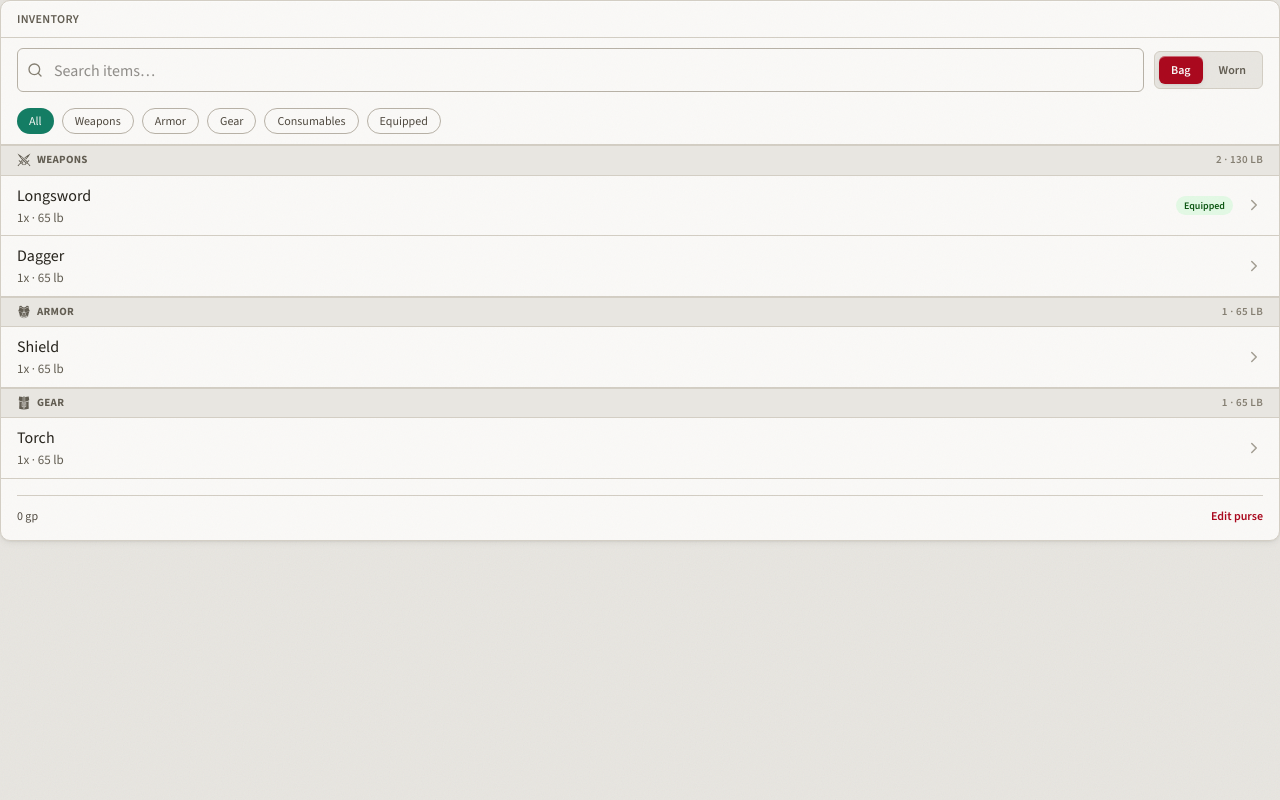
Test case: InventoryList search and filter › filters to equipped items via the Equipped chip
This screenshot has width=1280, height=800.
// An equipped row's toggle is also named "Equipped", so scope to the filter group.
Click the button "Equipped". click: [404, 121]
box: left=367, top=108, right=441, bottom=134
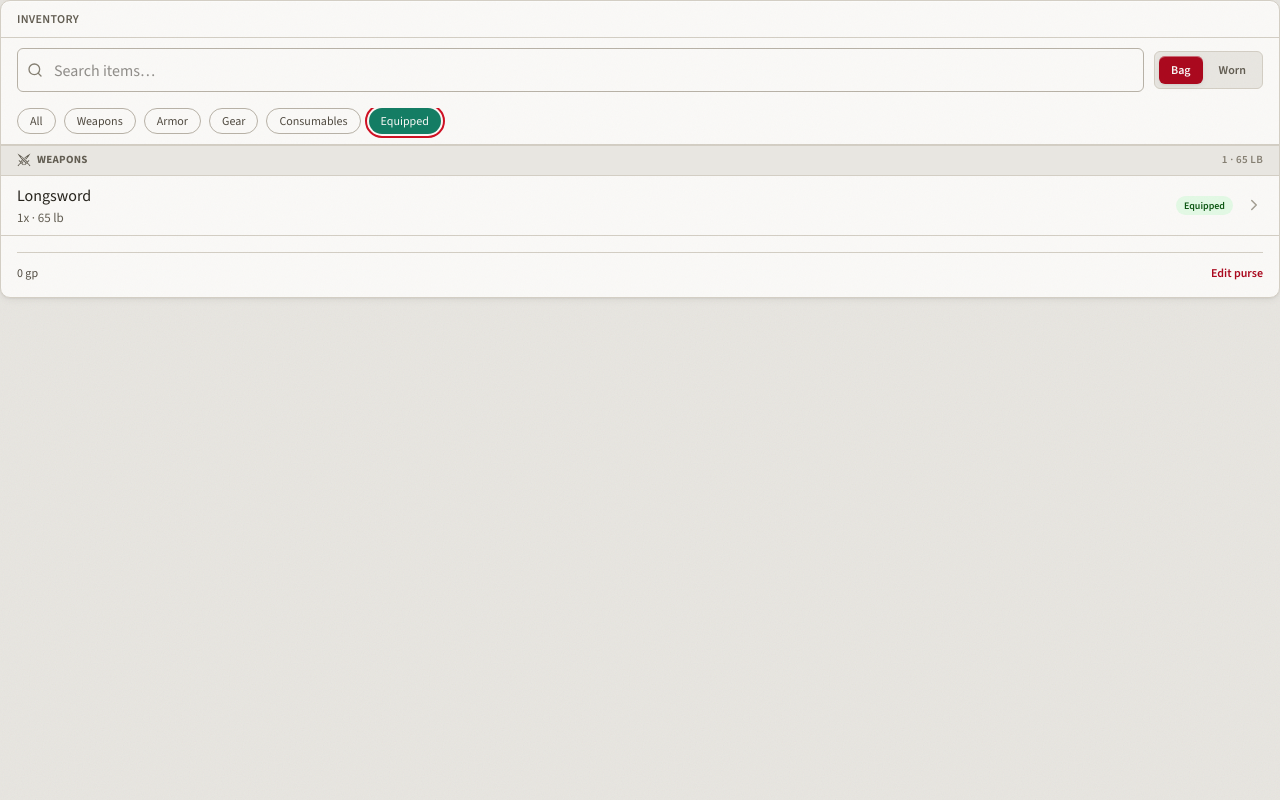
Expected: the text "Longsword" is shown, left=17, top=184, right=91, bottom=206
Now the button "Dagger" is gone
